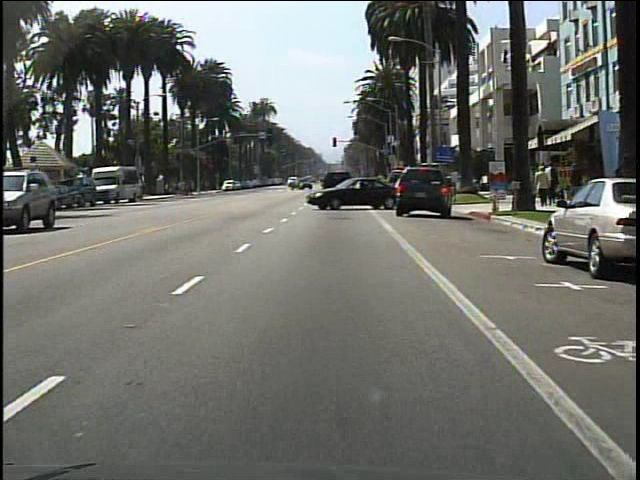person: (545, 160, 562, 209), (373, 169, 390, 207), (535, 166, 550, 209)
